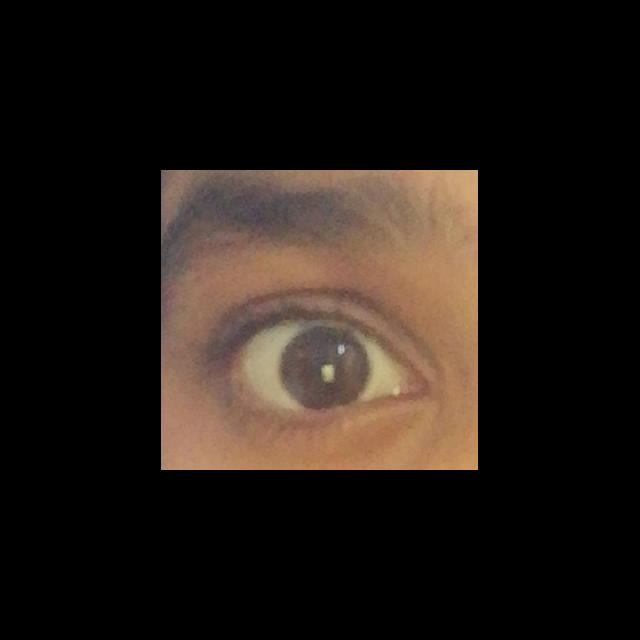eye: (244, 319, 405, 412)
iris: (280, 329, 369, 407)
